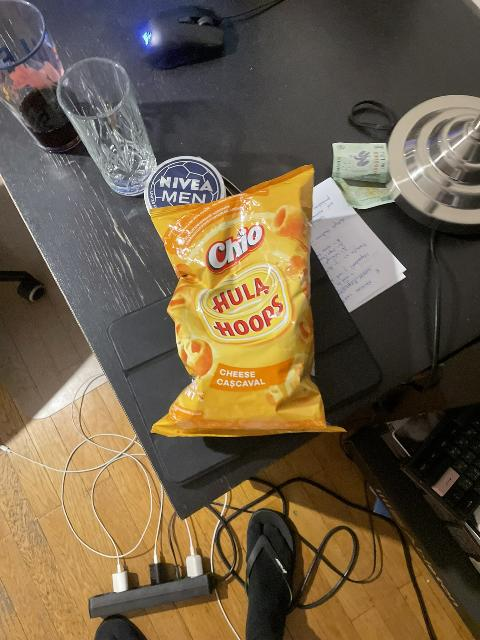Chio Hula Hoops Cheese 70g: (144, 166, 350, 437)
